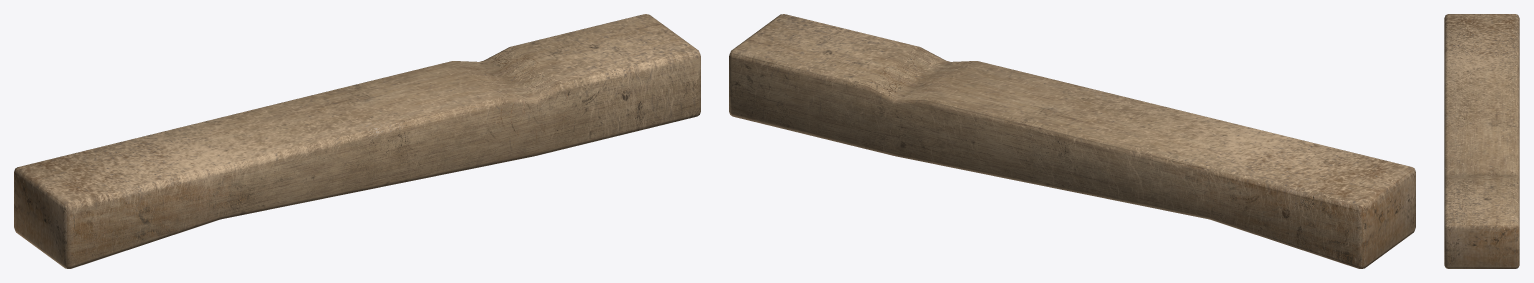
Rendered from rung.gltf.
The picture shows the model from 3 angles, left to right: view 1: azimuth 30°, elevation 25°; view 2: azimuth 150°, elevation 25°; view 3: azimuth 270°, elevation 25°; orthographic projection. The views are drawn at different scales.
Parts seen in each view (by area): view 1: Plane; view 2: Plane; view 3: Plane.
Boxes of the visible parts, box(x1,y1,x2,y2) form: Plane: box(14, 14, 700, 268); Plane: box(729, 14, 1415, 268); Plane: box(1444, 14, 1519, 268).
Bounding box in the file's own units: 1 × 0.1 × 0.15.
1 material, 1 textured.
